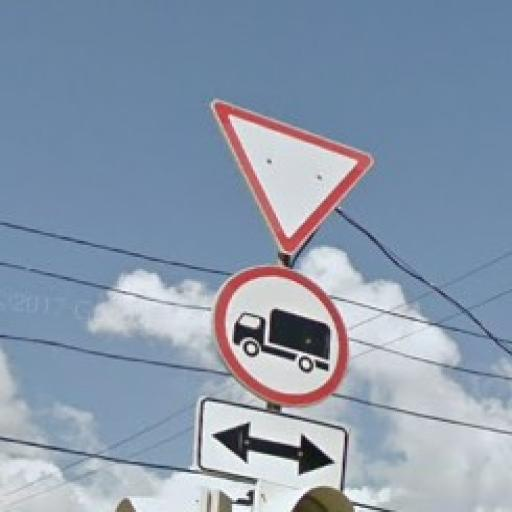traffic_sign: (210, 101, 377, 258), (214, 266, 350, 407)
